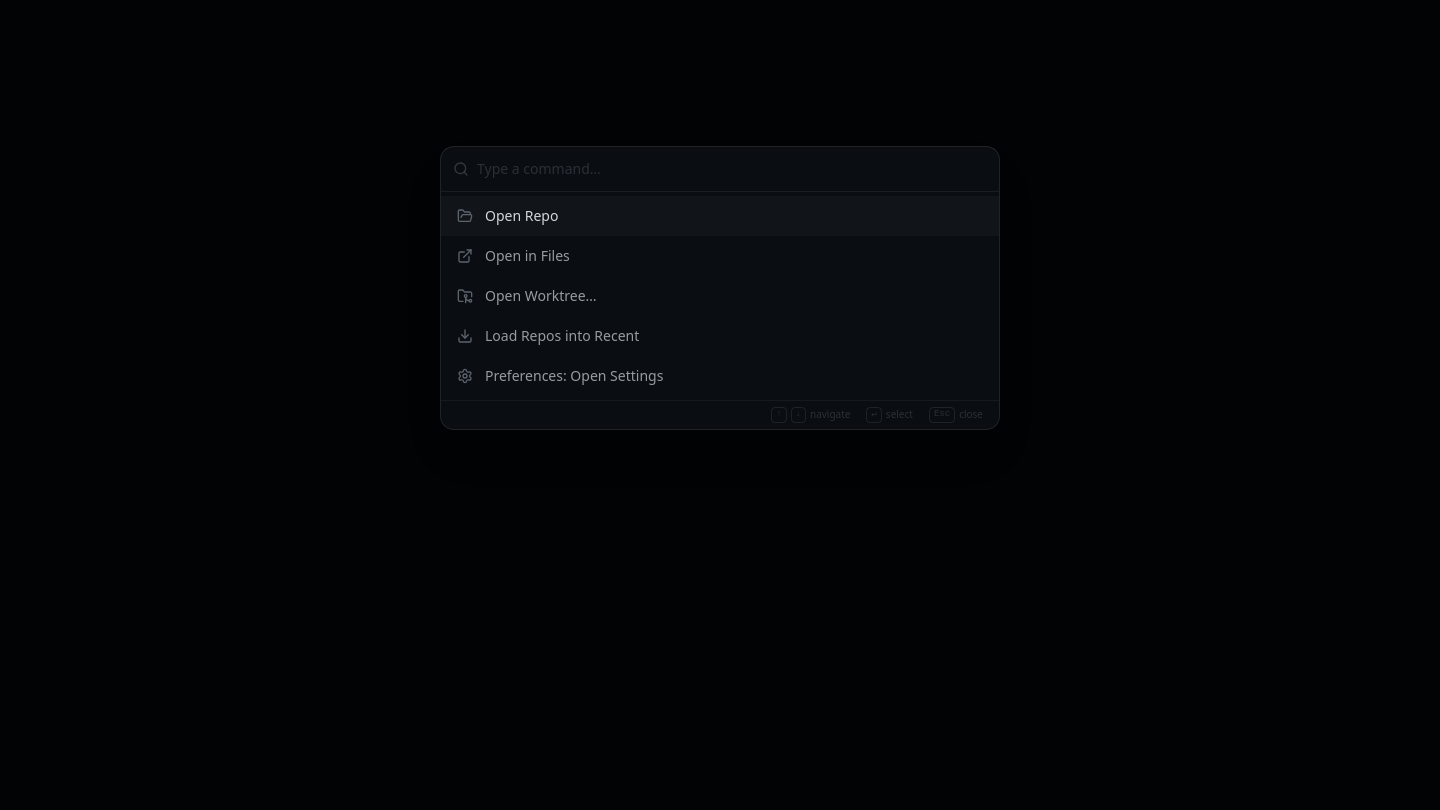
CommandPalette › excludes missing worktrees and shows the empty state
Click the button "Open Worktree…".
click(541, 295)  # box top-left (441, 276), bottom-right (999, 316)
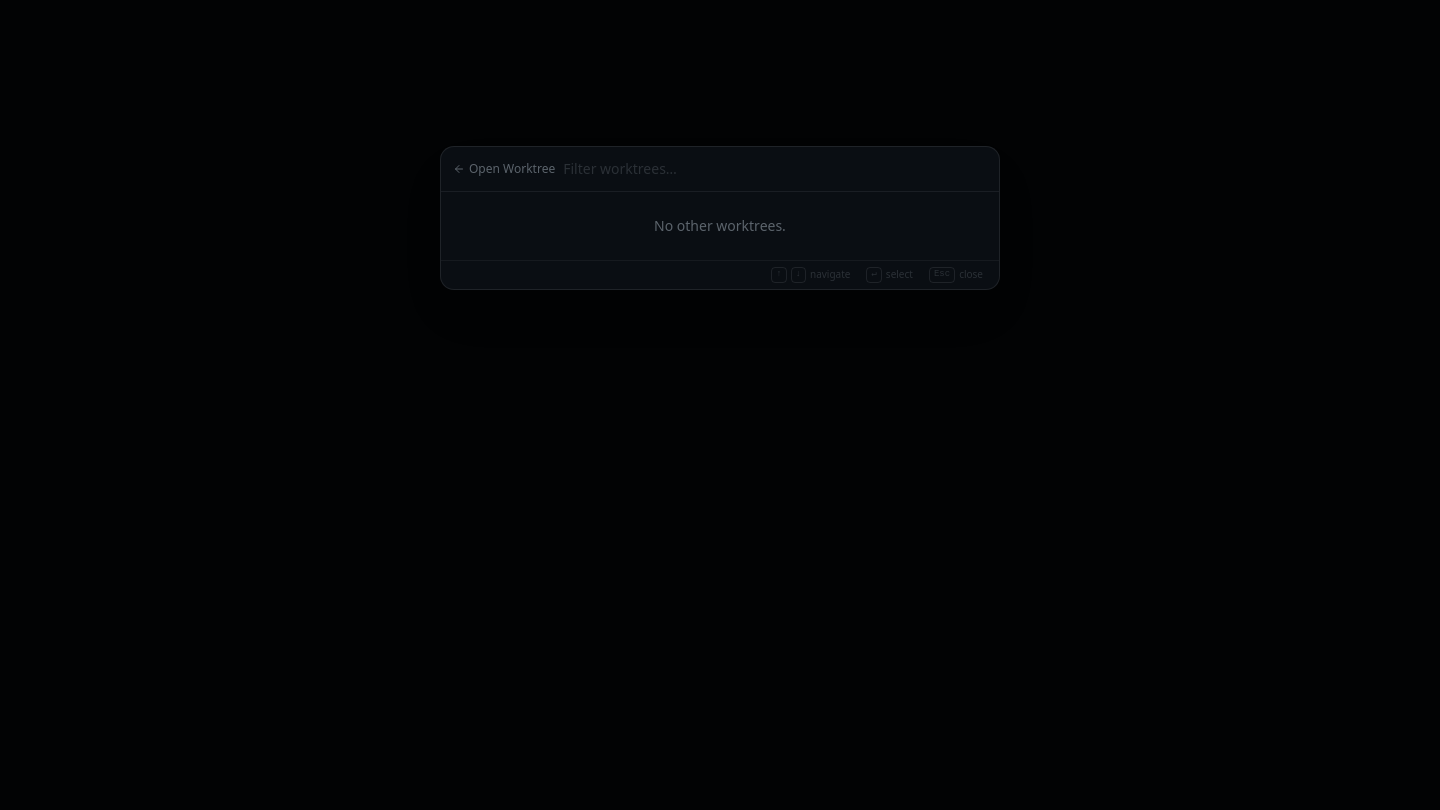
Now the text "No other worktrees." is shown, box top-left (654, 216), bottom-right (786, 235)
